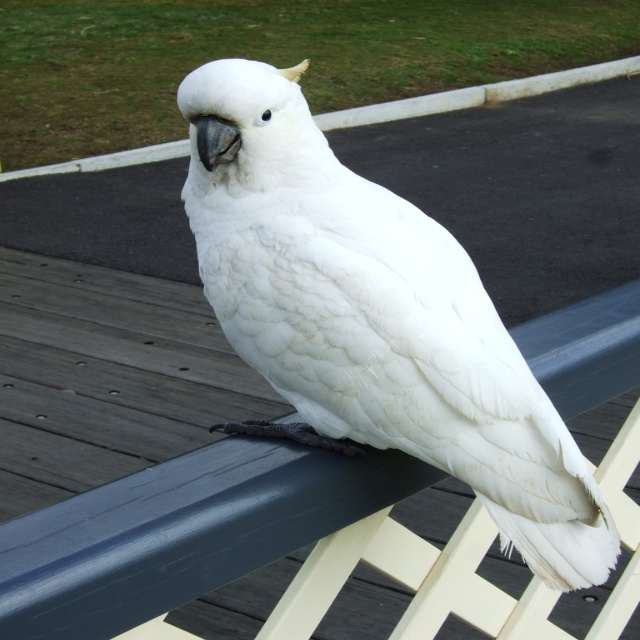Parrot: (179, 58, 620, 593)
